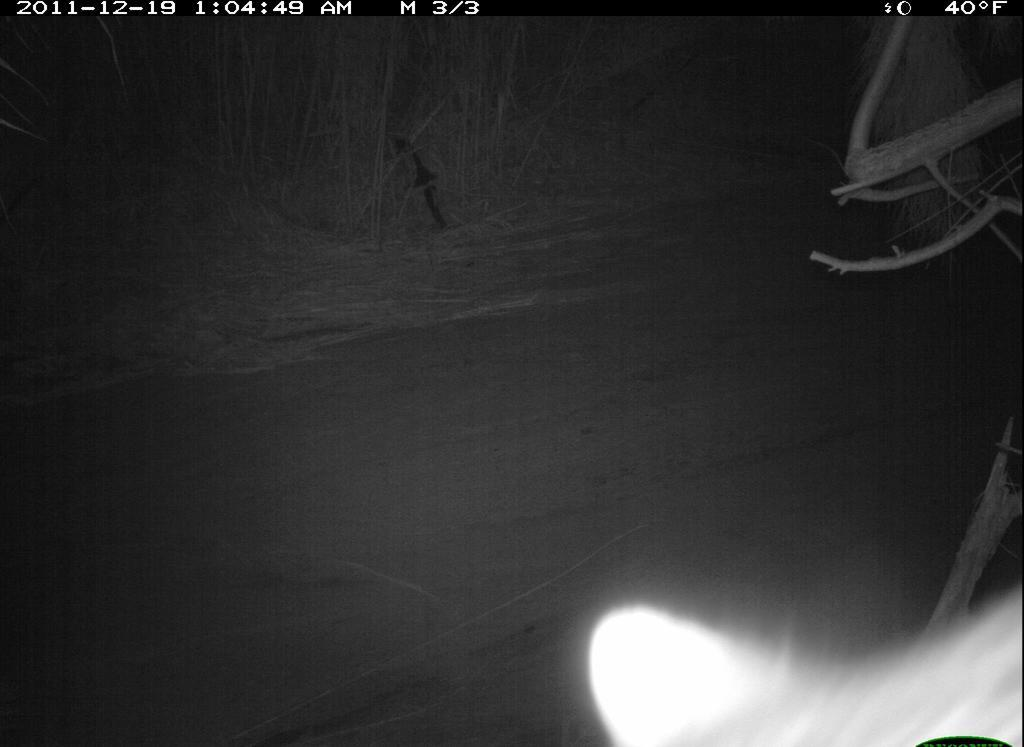raccoon: (589, 578, 1018, 747)
